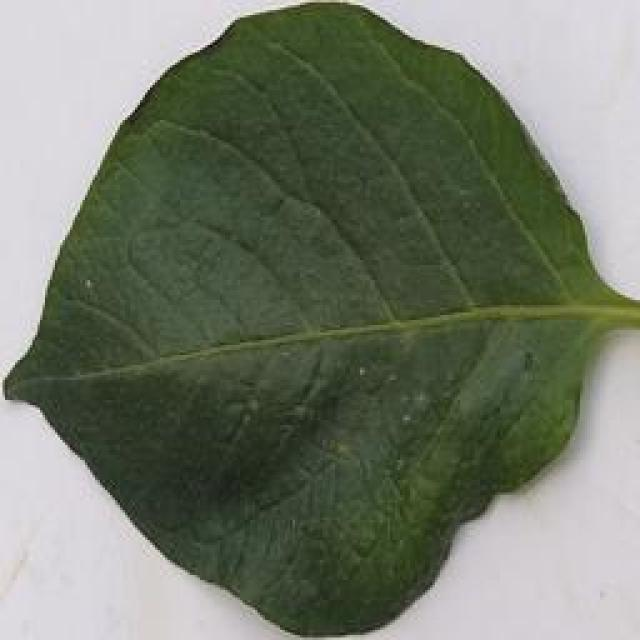Potato_Healthy: (2, 4, 626, 628)
